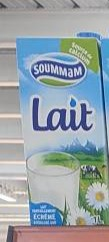soummam_milk: (12, 28, 109, 227)
